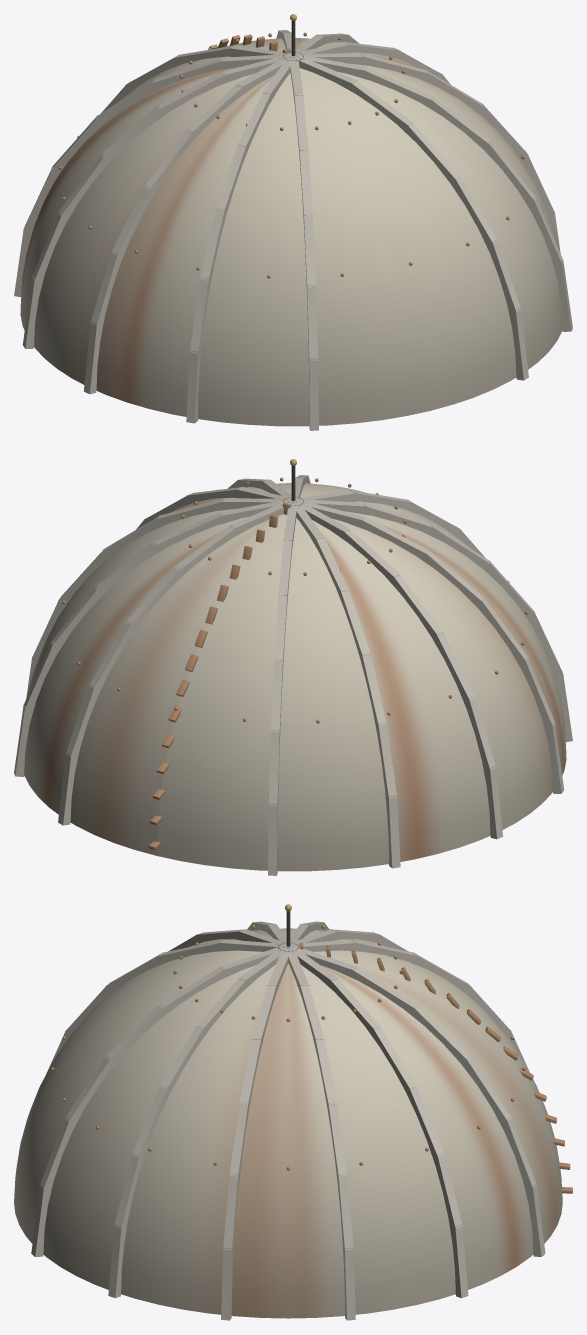
File: observatory.glb
3 views of the same model, one above another, from view 1: azimuth 30°, elevation 25°; view 2: azimuth 150°, elevation 25°; view 3: azimuth 270°, elevation 25° (orthographic).
Parts seen in each view (by area): view 1: DomeWest, DomeEast; view 2: DomeWest, DomeEast; view 3: DomeEast, DomeWest.
Boxes of the visible parts, x1,y1,x2,y2 form: DomeWest: (14, 44, 429, 430); DomeEast: (209, 14, 572, 410); DomeWest: (157, 489, 572, 875); DomeEast: (14, 459, 355, 855); DomeEast: (14, 904, 572, 1320); DomeWest: (15, 921, 561, 1175).
Size of the model in its own units: 1.86 by 1.25 by 1.87.
9 materials, 1 textured.
